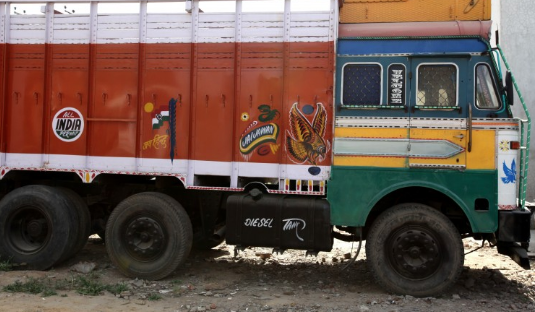truck: (1, 1, 533, 298)
